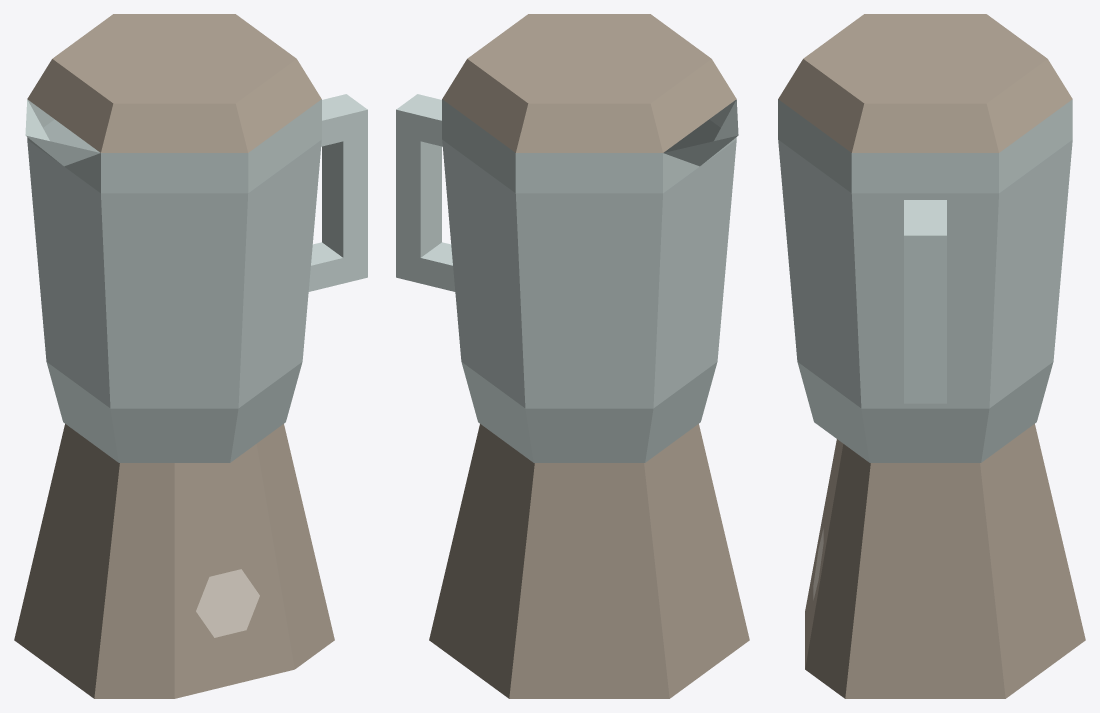
File: kitKitchenBlender.glb
3 renders of one model, left to right at view 1: azimuth 30°, elevation 25°; view 2: azimuth 150°, elevation 25°; view 3: azimuth 270°, elevation 25°, orthographic.
Parts seen in each view (by area): view 1: kitKitchenBlender_metalMedium, kitKitchenBlender_glass, kitKitchenBlender_metal; view 2: kitKitchenBlender_metalMedium, kitKitchenBlender_glass; view 3: kitKitchenBlender_metalMedium, kitKitchenBlender_glass.
Boxes of the visible parts, box(x1,y1,x2,y2) form: kitKitchenBlender_metalMedium: box(14, 14, 334, 698); kitKitchenBlender_glass: box(25, 94, 367, 462); kitKitchenBlender_metal: box(196, 569, 259, 637); kitKitchenBlender_metalMedium: box(429, 14, 749, 698); kitKitchenBlender_glass: box(396, 94, 738, 462); kitKitchenBlender_metalMedium: box(778, 14, 1085, 698); kitKitchenBlender_glass: box(778, 99, 1072, 462).
Bounding box in the file's own units: 0.2388 × 0.4 × 0.1918.
